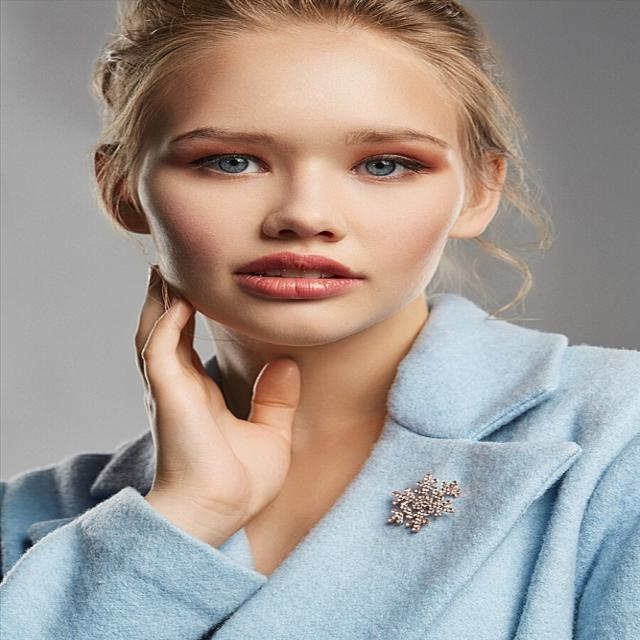earlobe: (449, 204, 485, 241), (116, 204, 152, 234)
eye: (198, 152, 272, 175), (347, 154, 416, 177)
nose: (261, 228, 353, 252)
wholeear: (450, 145, 509, 239), (92, 142, 152, 234)
